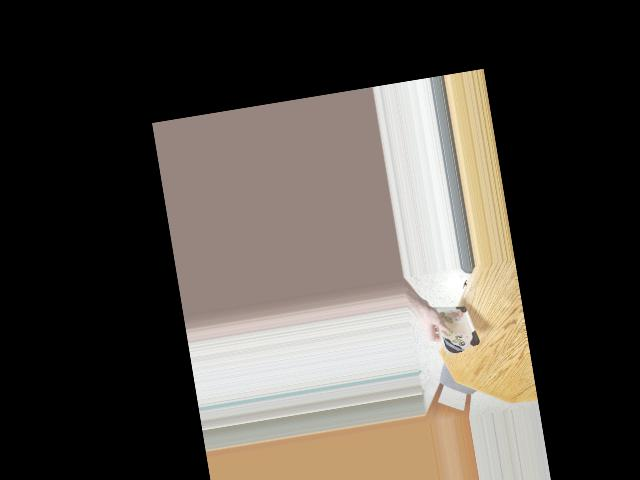cheese: (430, 293, 478, 358)
